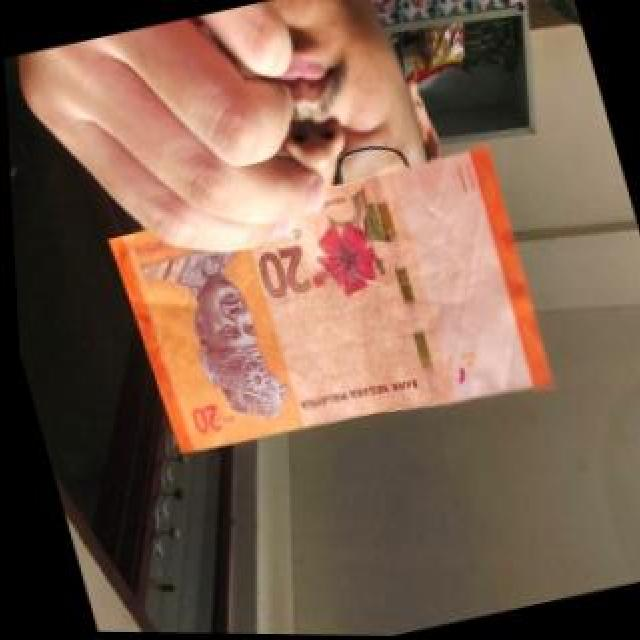20 Ringgit: (99, 140, 552, 467)
